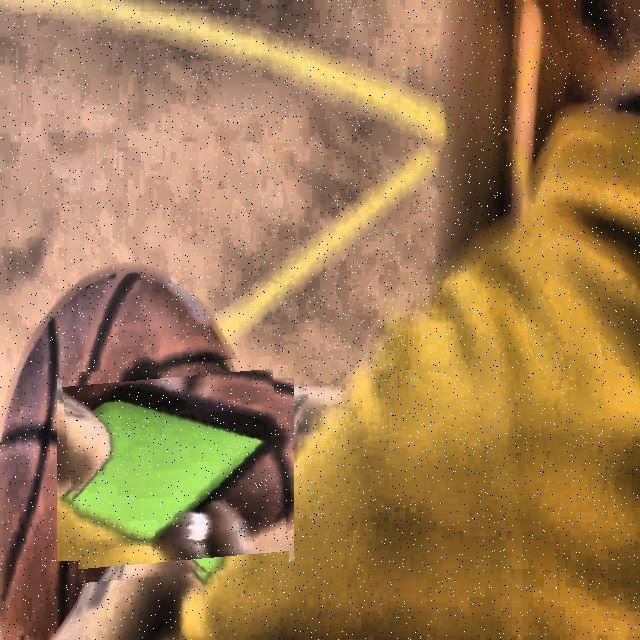Phone: (66, 360, 285, 580)
